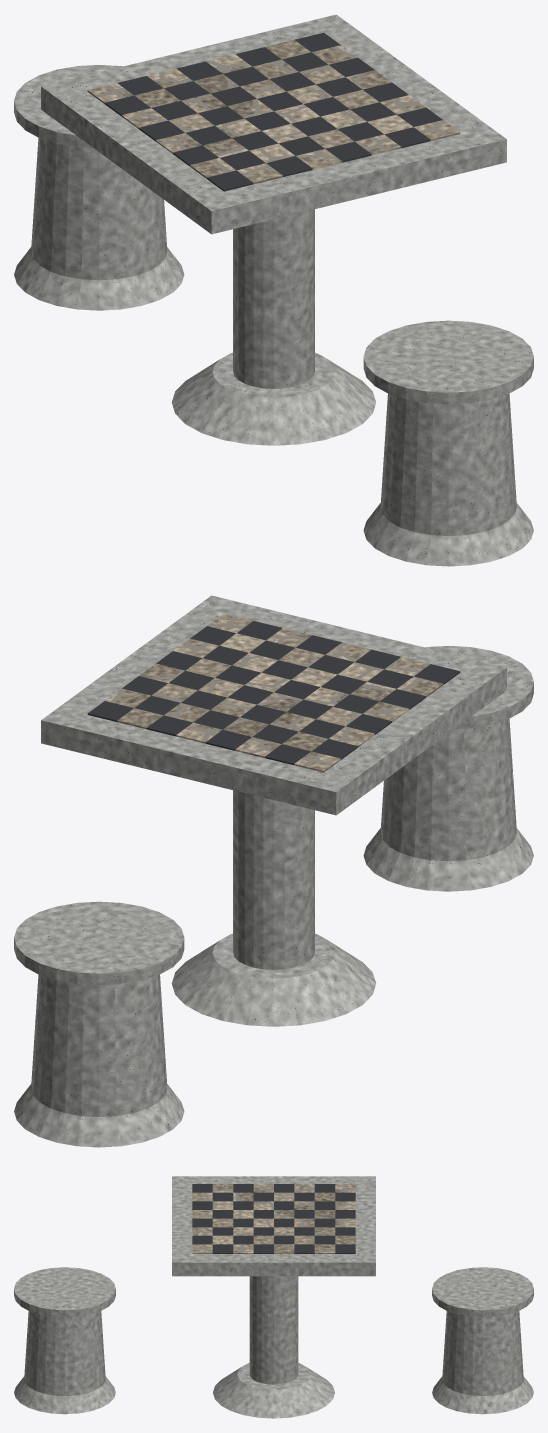
3 renders of one model, top to bottom at view 1: azimuth 30°, elevation 25°; view 2: azimuth 150°, elevation 25°; view 3: azimuth 270°, elevation 25°, orthographic. The views are drawn at different scales.
Parts seen in each view (by area): view 1: benchWidth=0.3;benches=true;frameMaterial=steel_dark;height= (×3); view 2: benchWidth=0.3;benches=true;frameMaterial=steel_dark;height= (×3); view 3: benchWidth=0.3;benches=true;frameMaterial=steel_dark;height= (×3).
Part boxes in pixels (<box>): benchWidth=0.3;benches=true;frameMaterial=steel_dark;height= (×3): <box>14,14,533,566</box>; benchWidth=0.3;benches=true;frameMaterial=steel_dark;height= (×3): <box>14,595,533,1147</box>; benchWidth=0.3;benches=true;frameMaterial=steel_dark;height= (×3): <box>14,1176,533,1418</box>.
Size of the model in its own units: 0.8 by 2.04 by 0.754.
Materials: 3 (2 with a texture image).
